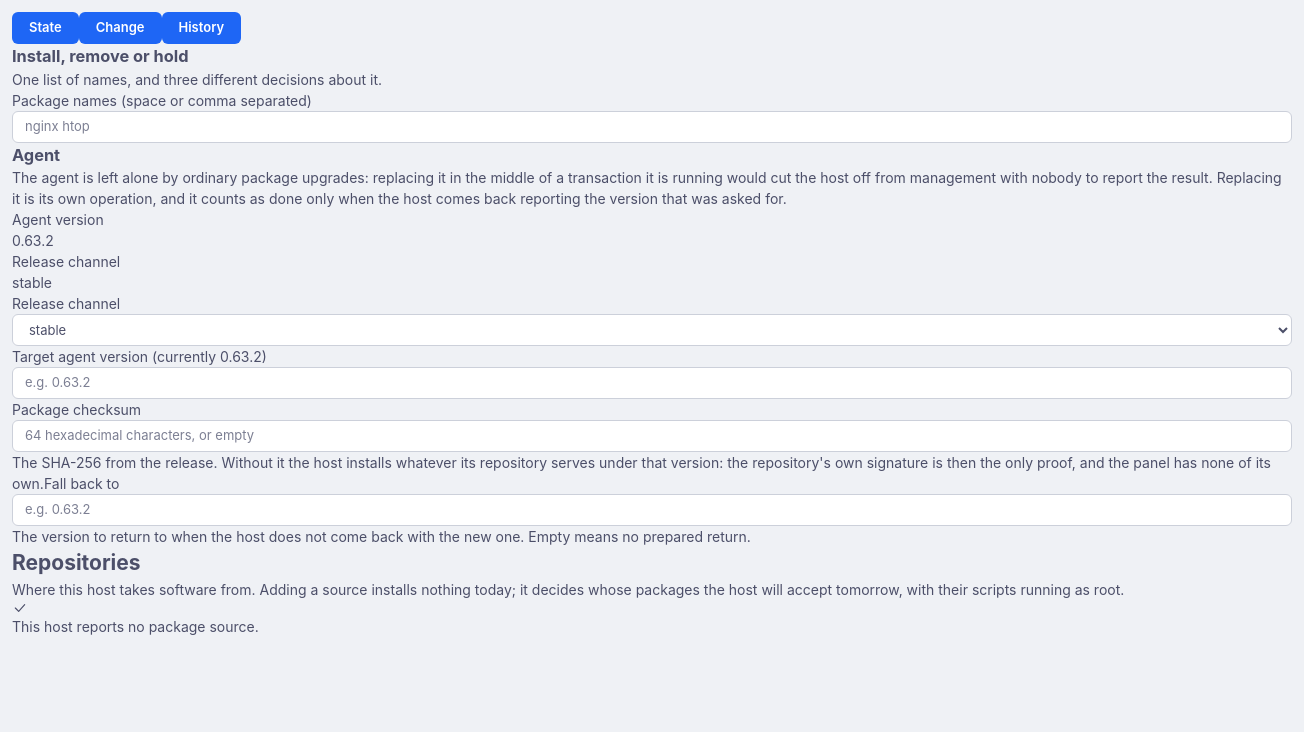
it: the software of one host › records the release channel on the host, without running anything on it
Select "beta (sees a release first)" in the dropdown with test id "release-channel" at (652, 330), box [12,314,1292,346]
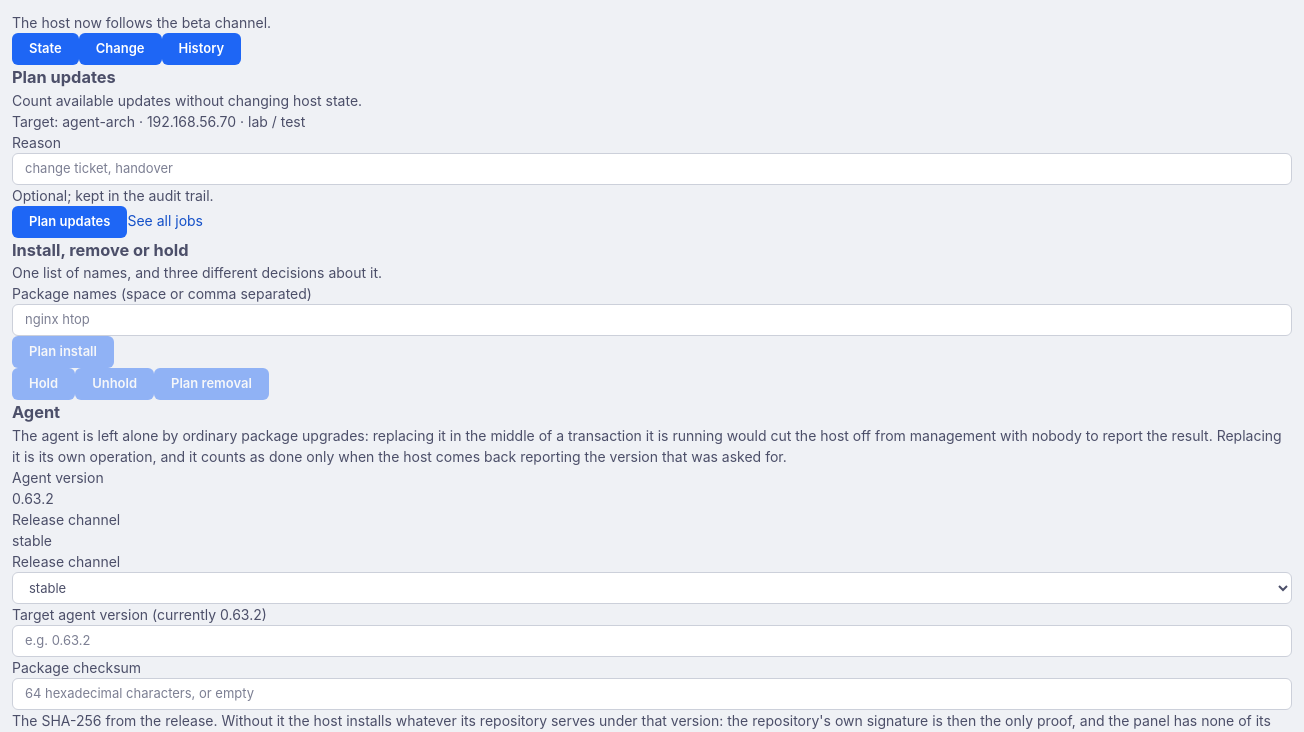
Now the text "The host now follows the beta channel." is shown, box [12,14,271,31]
